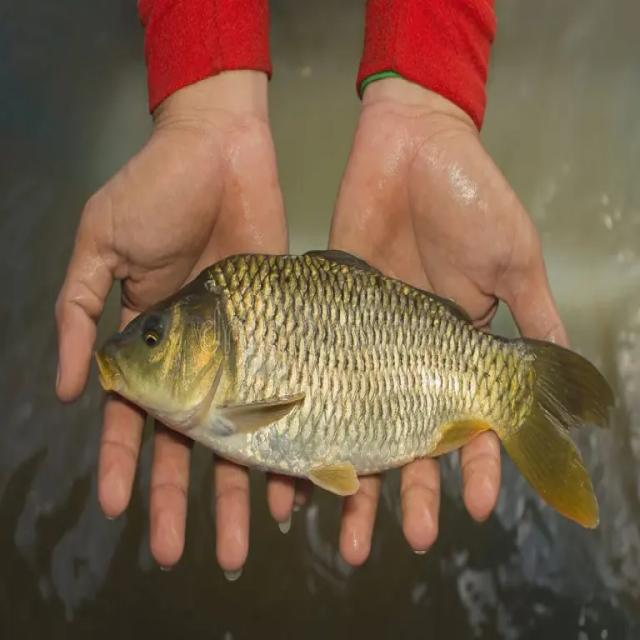Common carp: (91, 250, 616, 526)
